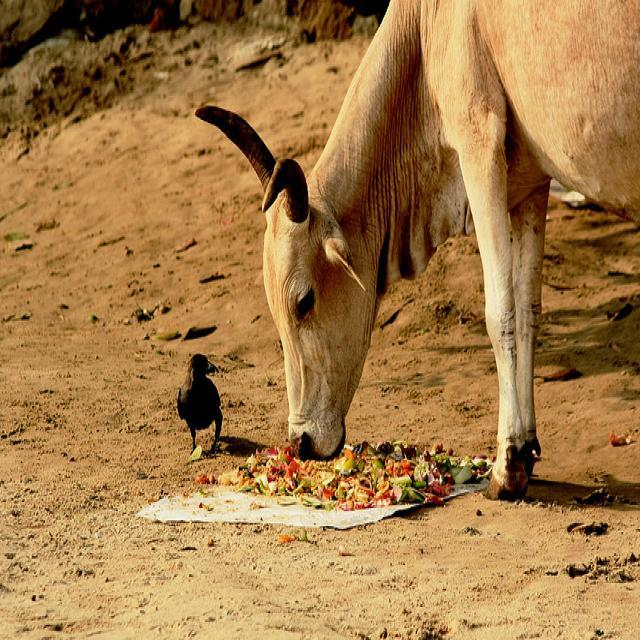cow: (194, 0, 639, 496)
